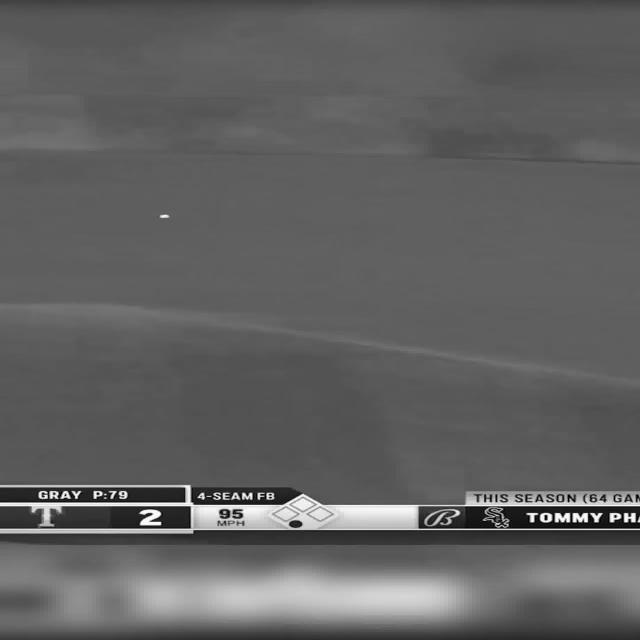baseball: (161, 214, 171, 219)
